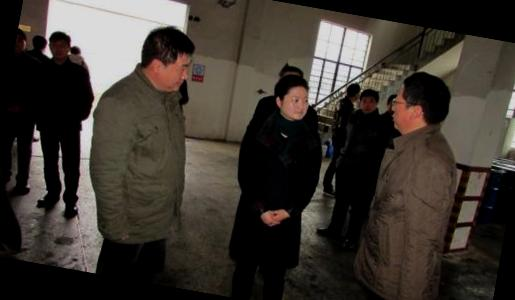no_helmet: (386, 65, 456, 143), (132, 20, 201, 96), (267, 69, 316, 124), (44, 28, 76, 61), (356, 86, 384, 120), (342, 78, 364, 105), (28, 31, 50, 57), (14, 28, 32, 56)
